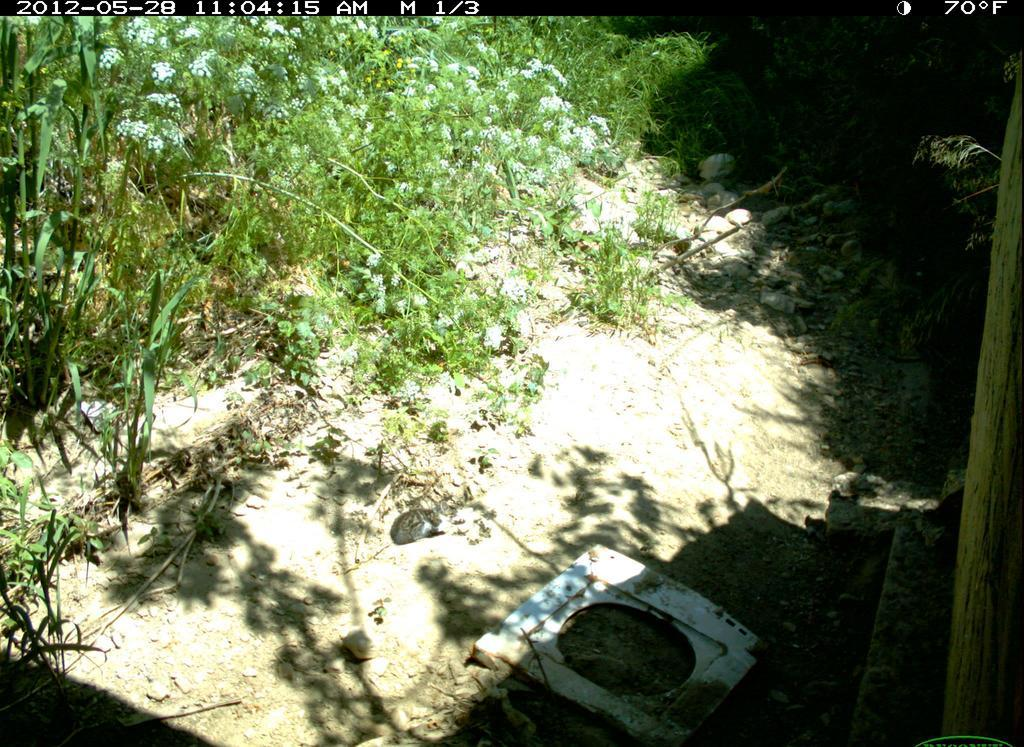cat: (383, 502, 447, 547)
